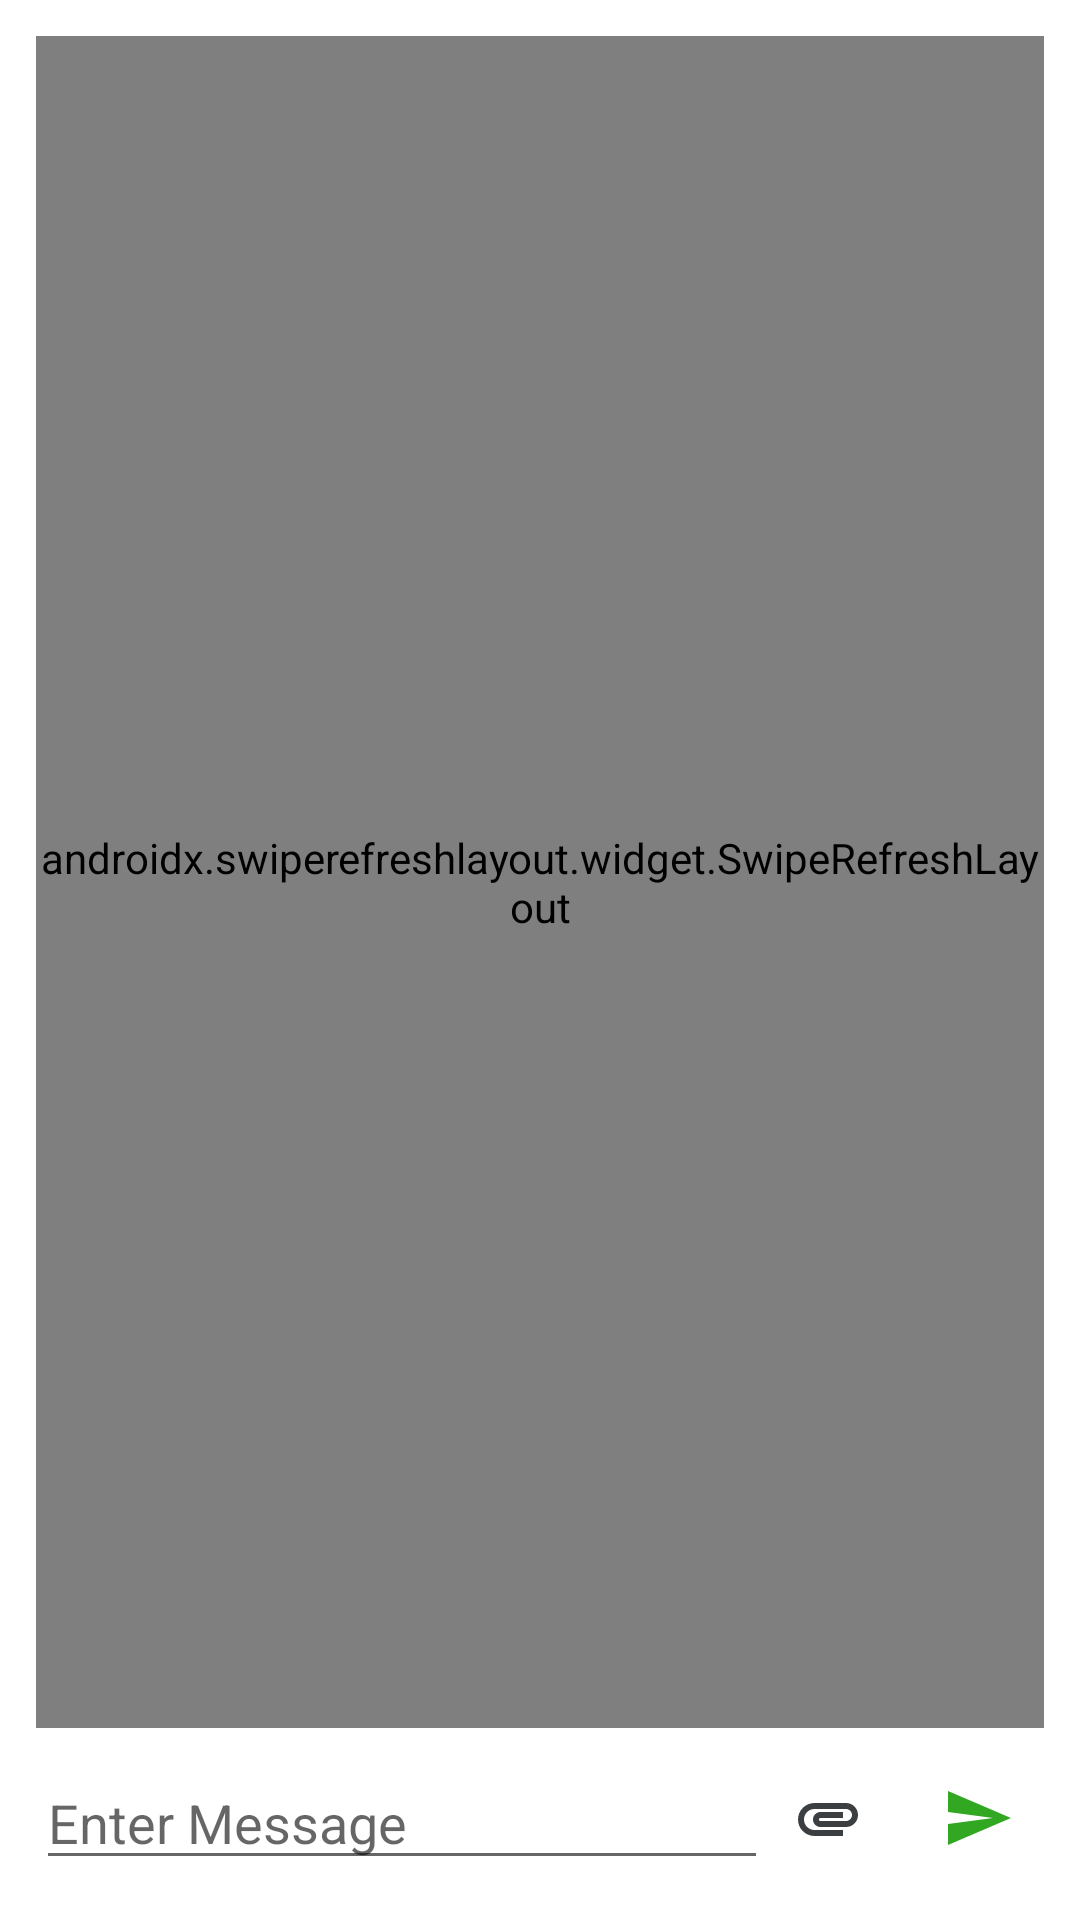

Icons on this 1080w x 1920h Android screen, each with its box as (x1, y1, x2, y2):
attachment: (798, 1803, 858, 1836)
send message: (948, 1791, 1011, 1845)
